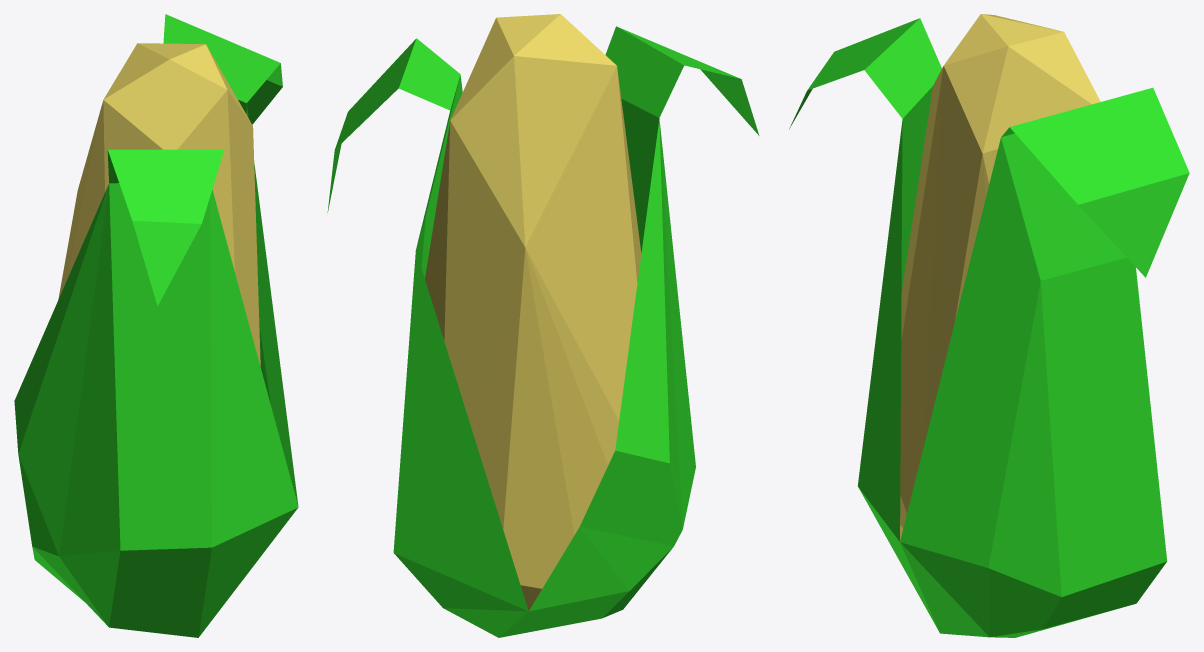
The model's file is corn.fbx.
The picture shows the model from 3 angles, left to right: view 1: azimuth 30°, elevation 25°; view 2: azimuth 150°, elevation 25°; view 3: azimuth 270°, elevation 25°; orthographic projection. The views are drawn at different scales.
Parts seen in each view (by area): view 1: Icosphere; view 2: Icosphere; view 3: Icosphere.
Part boxes in pixels (x1,y1,x2,y2): Icosphere: [14, 14, 298, 637]; Icosphere: [327, 14, 759, 637]; Icosphere: [789, 14, 1189, 637].
Bounding box in the file's own units: 189 × 359 × 213.
